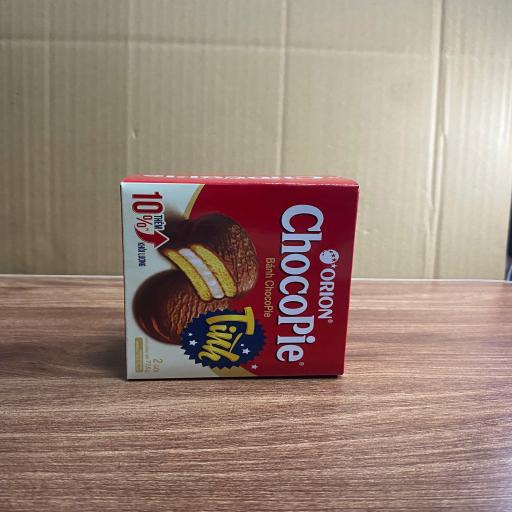chocopie: (120, 182, 357, 378)
